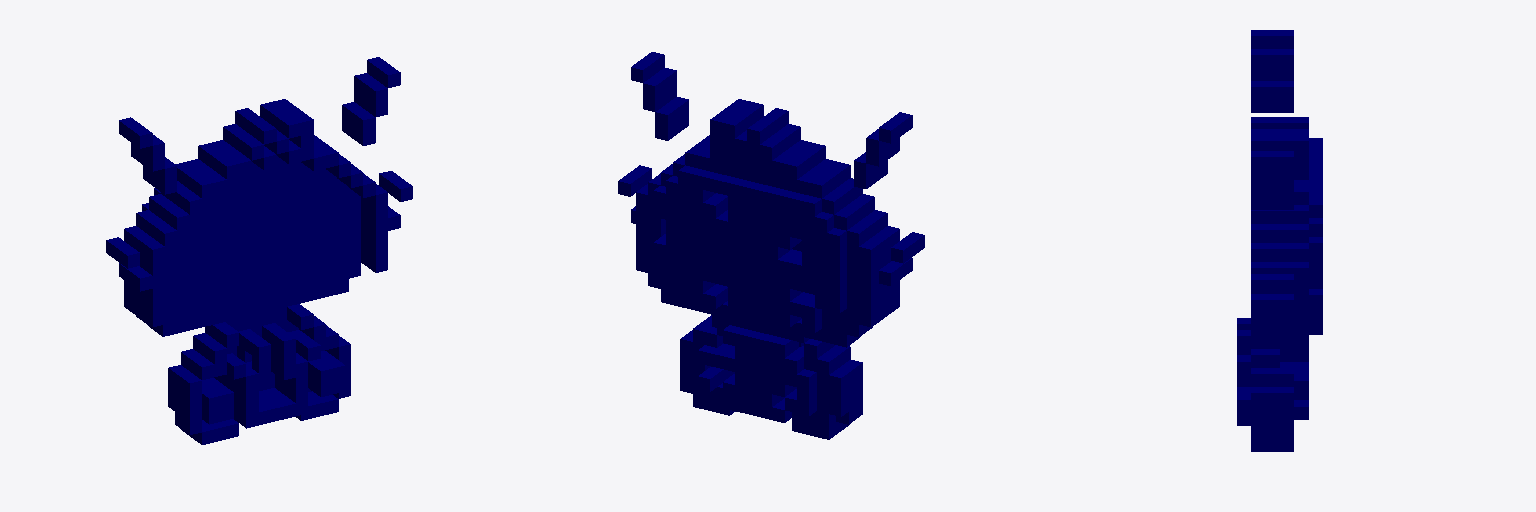
File: azul1.obj
3 renders of one model, left to right at view 1: azimuth 30°, elevation 25°; view 2: azimuth 150°, elevation 25°; view 3: azimuth 270°, elevation 25°, orthographic.
Bounding box in the file's own units: 2.8 × 3.05 × 0.7311.